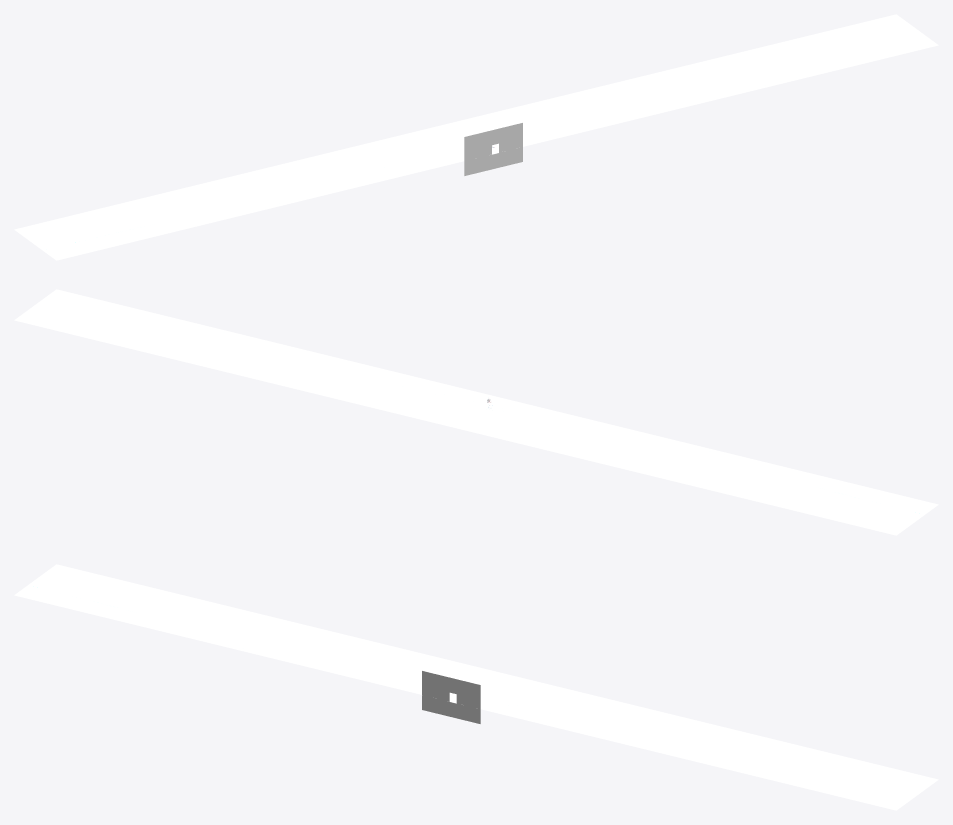
File: whale_boat.gltf
The picture shows the model from 3 angles, top to bottom: view 1: azimuth 30°, elevation 25°; view 2: azimuth 150°, elevation 25°; view 3: azimuth 330°, elevation 25°; orthographic projection.
Visible parts, largest first — view 1: Plane, occlude_object; view 2: Plane; view 3: Plane, occlude_object.
Part boxes in pixels (x1=…): Plane: x1=14, y1=14, x2=938, y2=260; occlude_object: x1=464, y1=123, x2=522, y2=175; Plane: x1=14, y1=289, x2=938, y2=535; Plane: x1=14, y1=564, x2=938, y2=810; occlude_object: x1=422, y1=671, x2=480, y2=723.
Size of the model in its own units: 21.4 by 0.9077 by 1.79.
Materials: 4 (1 with a texture image).
